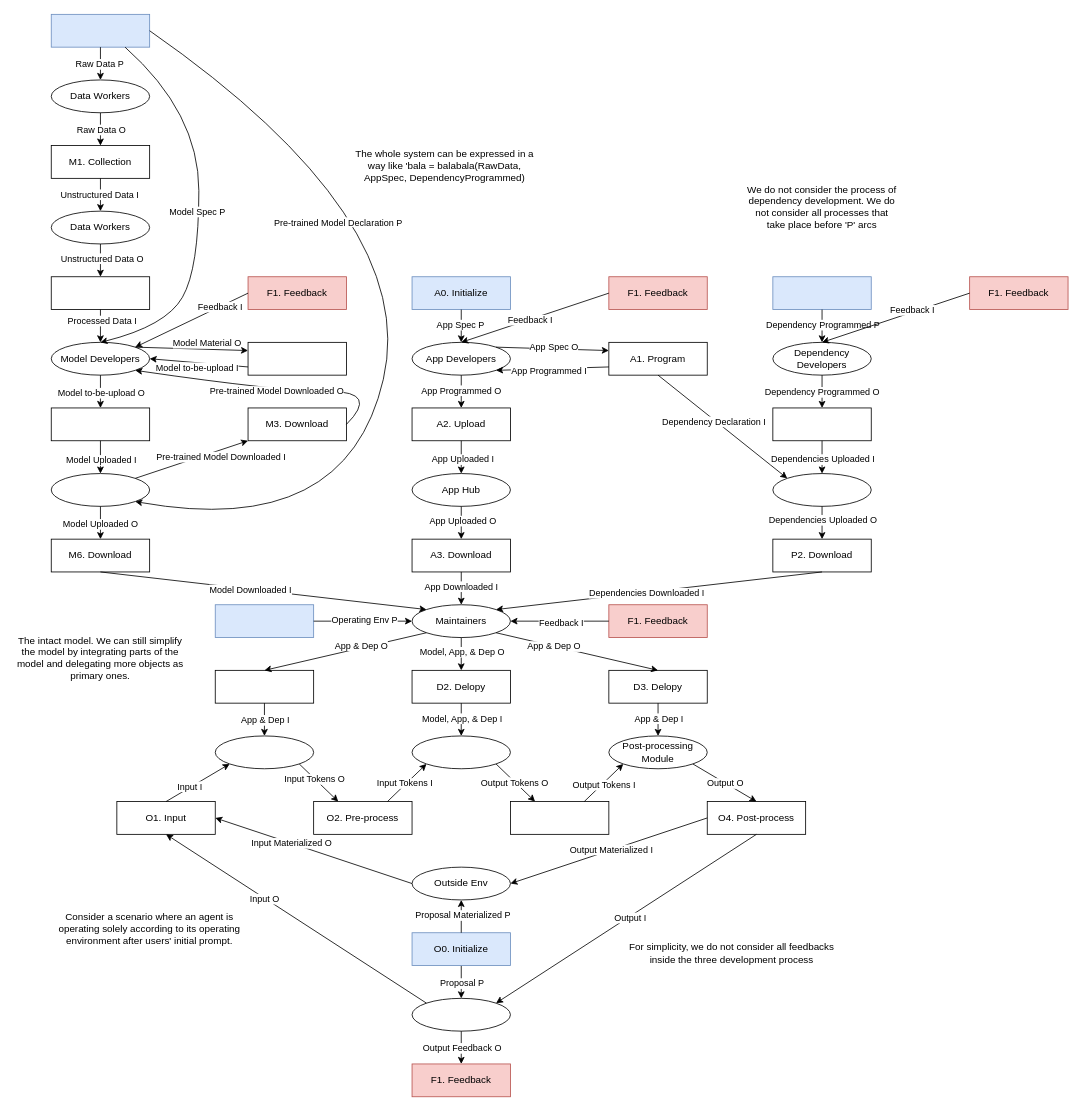
Image size: 1082x1111. Some labels were removed from this diagram. The centre of each missing label's shape, as x and y in pixels:
"D0. Initialize" goes at (264,621).
"D1. Delopy" goes at (264,686).
"Dependency Hub" goes at (821,489).
"Inference Module" goes at (460,752).
"M0. Initialize" goes at (100,30).
"M2. Process" goes at (100,293).
"M4. Train" goes at (296,358).
"M5. Upload" goes at (100,424).
"Model Hub" goes at (100,489).
"O3. Infer" goes at (559,817).
"P0. Initialize" goes at (821,293).
"P1. Upload" goes at (821,424).
"Pre-processing Module" goes at (264,752).
"Users" goes at (460,1014).
